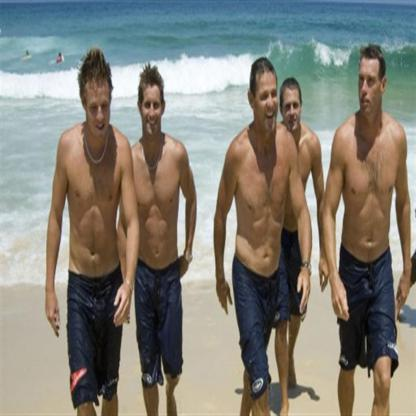face: (255, 72, 280, 132), (87, 83, 110, 139), (359, 61, 382, 116), (141, 89, 163, 135), (283, 90, 302, 132)
